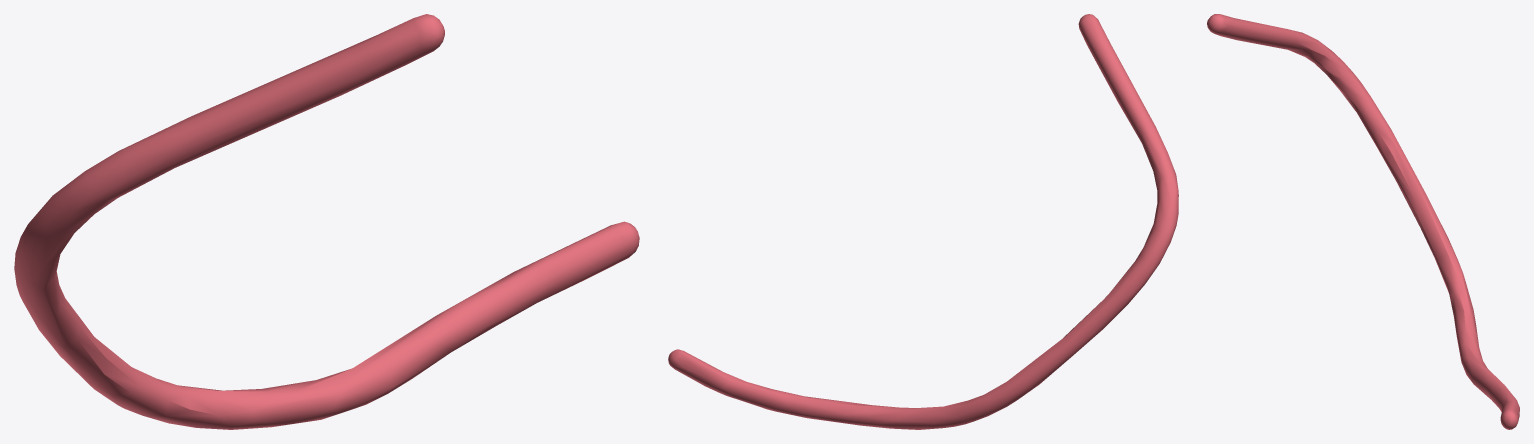
The model's file is fma22822_fj2236.glb.
The picture shows the model from 3 angles, left to right: view 1: azimuth 30°, elevation 25°; view 2: azimuth 150°, elevation 25°; view 3: azimuth 270°, elevation 25°; orthographic projection. The views are drawn at different scales.
Parts seen in each view (by area): view 1: FMA22822_FJ2236; view 2: FMA22822_FJ2236; view 3: FMA22822_FJ2236.
Boxes of the visible parts, x1,y1,x2,y2 form: FMA22822_FJ2236: (14,14,639,429); FMA22822_FJ2236: (668,14,1178,429); FMA22822_FJ2236: (1207,14,1519,429).
Bounding box in the file's own units: 0.0305 × 0.0233 × 0.0206.
